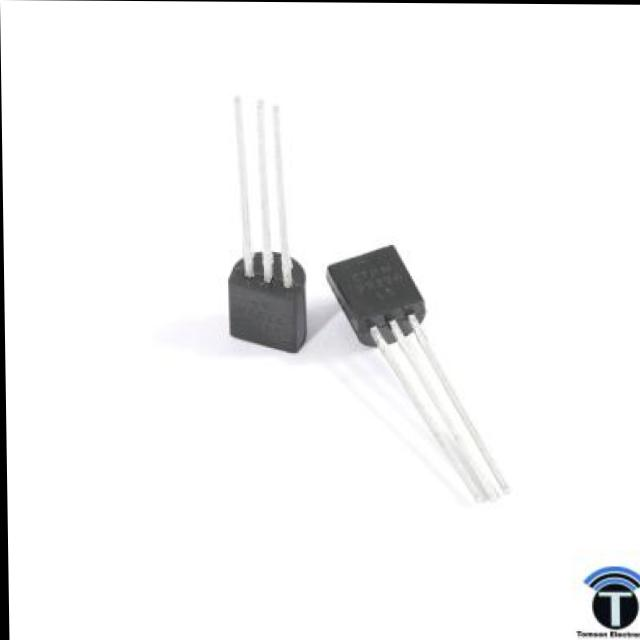Transistor: (226, 94, 309, 354), (325, 244, 426, 348)
